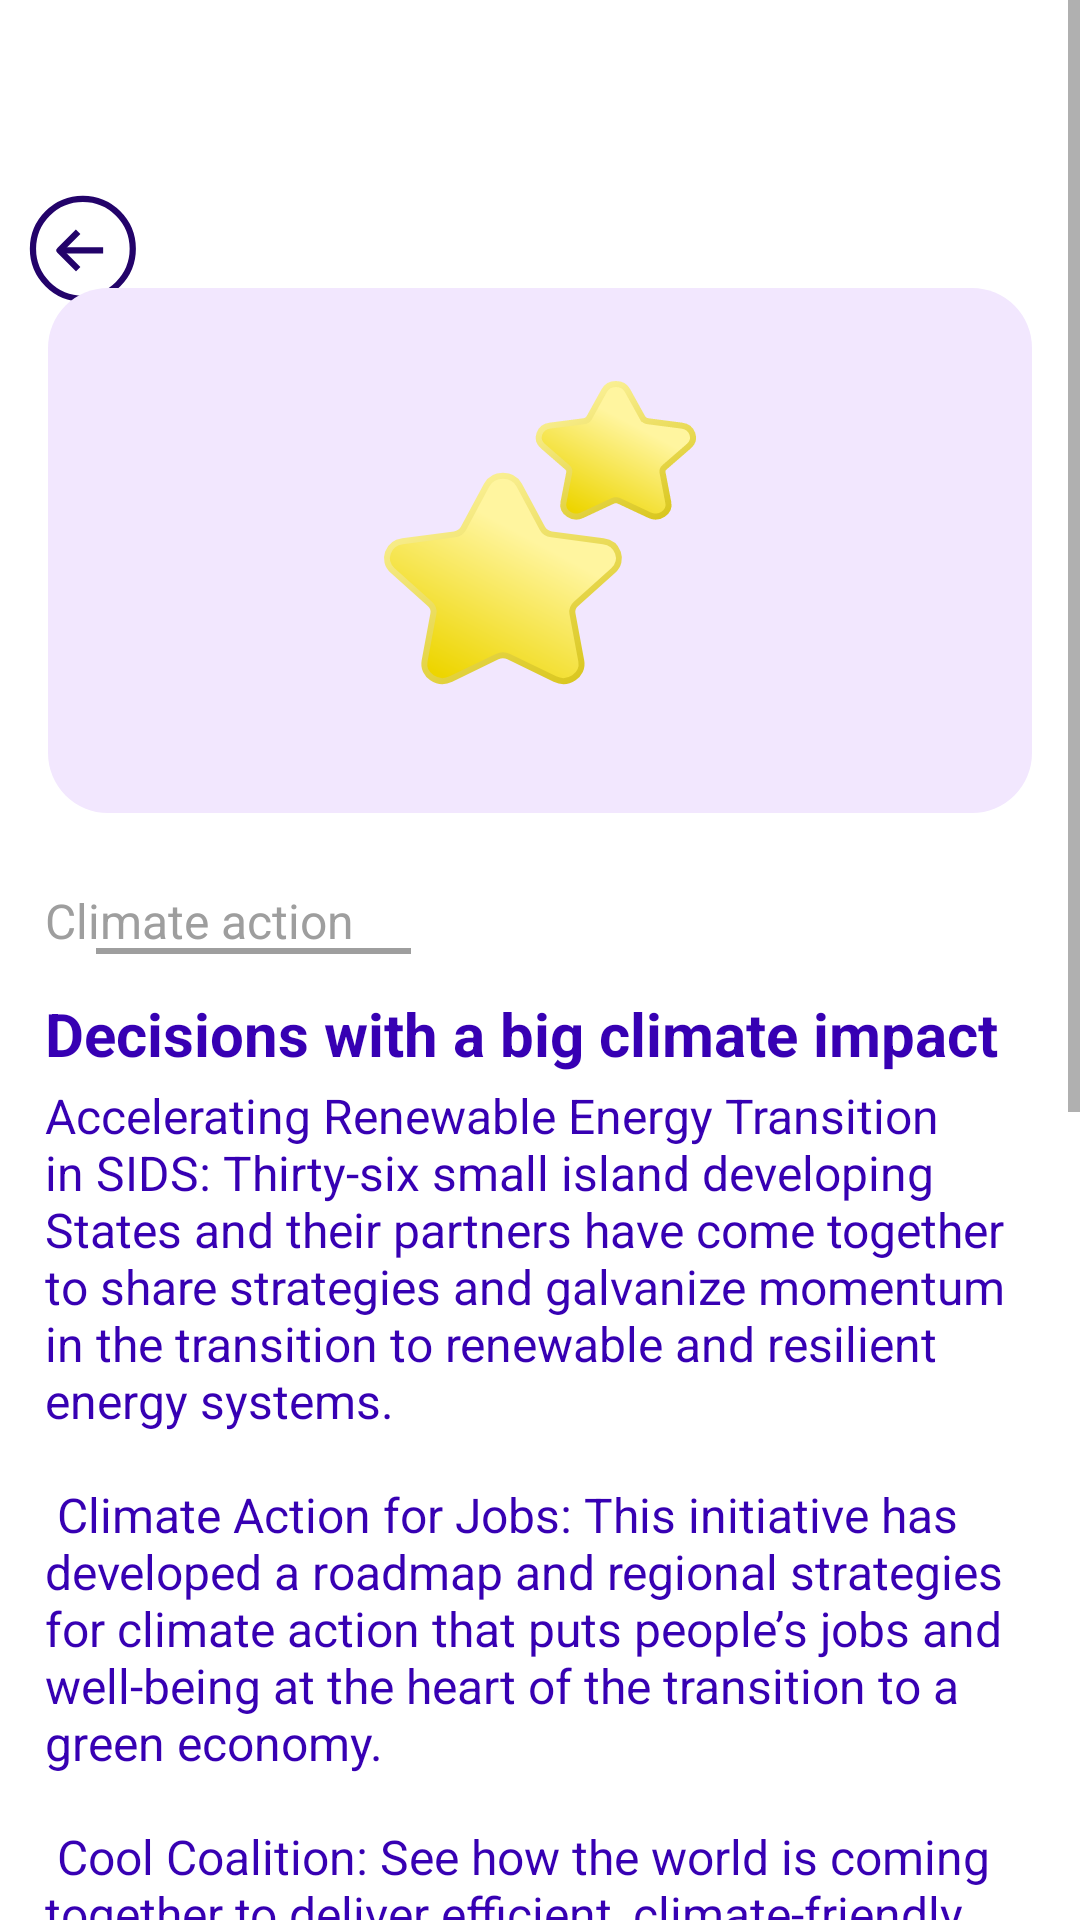

Icon bounding boxes for this 1080*1920 phone screenshot, format bbox=(x1, y1, x2, y2):
back arrow: bbox=(29, 195, 136, 301)
